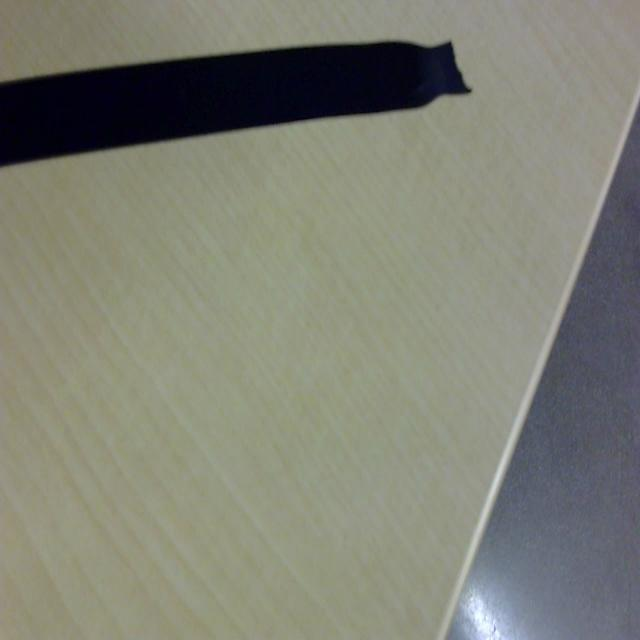tape: (0, 41, 472, 170)
